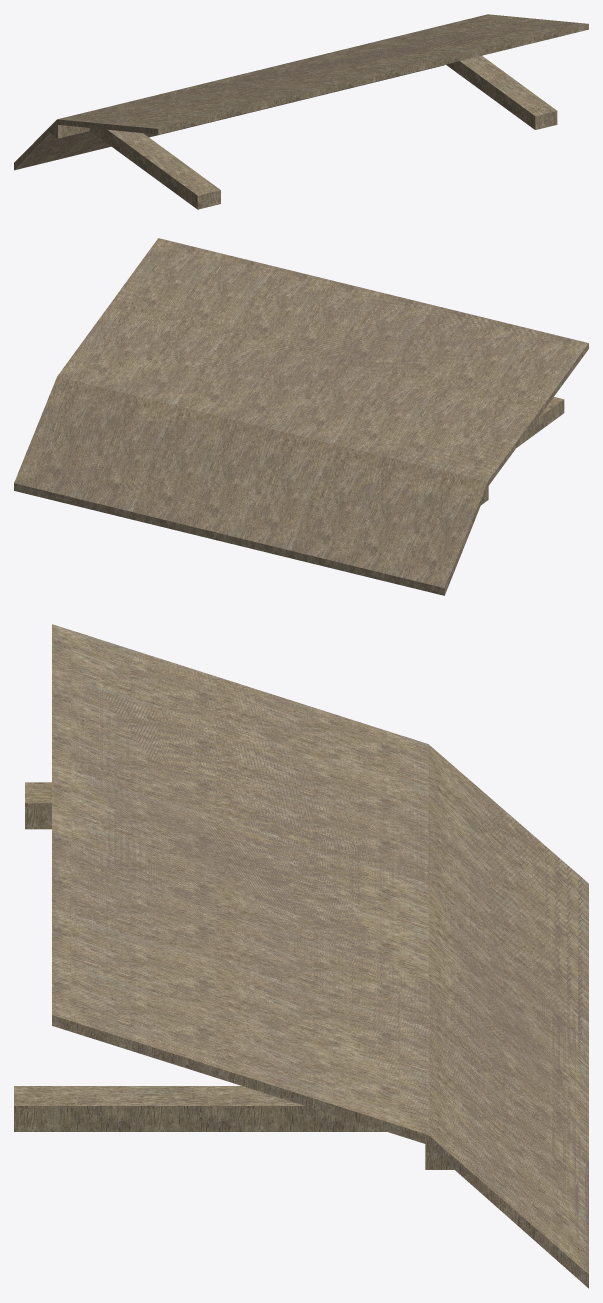
Rendered from Canopi 1.fbx.
3 views of the same model, one above another, from view 1: azimuth 30°, elevation 25°; view 2: azimuth 150°, elevation 25°; view 3: azimuth 270°, elevation 25° (orthographic). The views are drawn at different scales.
Parts seen in each view (by area): view 1: Model; view 2: Model; view 3: Model.
Part boxes in pixels (box(x1,y1,x2,y2)): Model: box(14, 14, 588, 209); Model: box(14, 238, 588, 595); Model: box(14, 624, 588, 1288).
Size of the model in its own units: 31.88 by 10.41 by 19.81.
